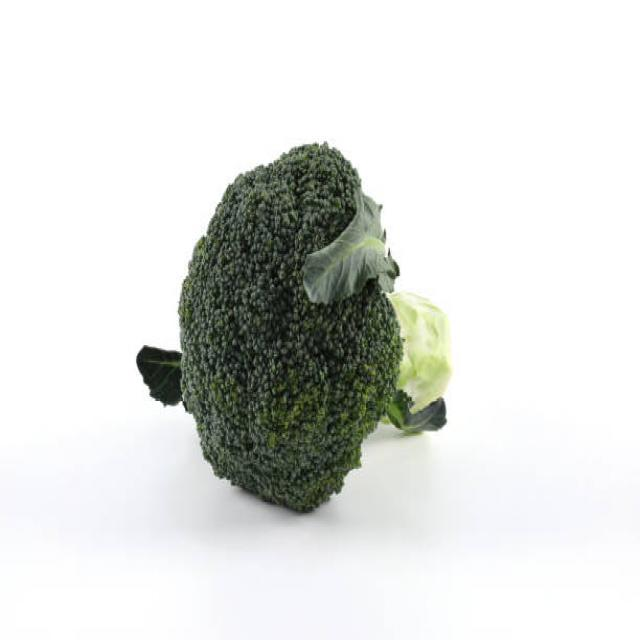broccoli: (101, 95, 496, 519)
